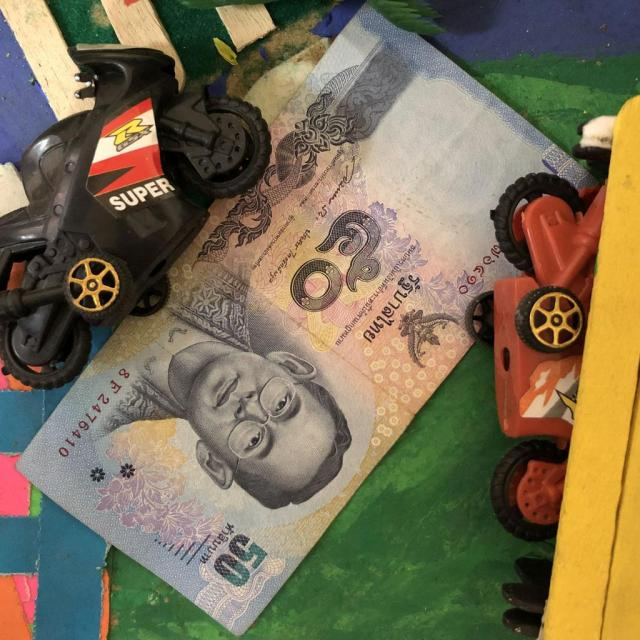THAI50: (19, 5, 589, 634)
